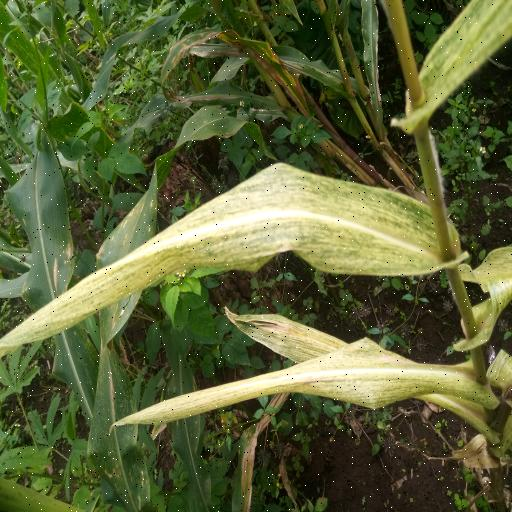Corn_Streak: (2, 166, 433, 346), (108, 340, 492, 422)
